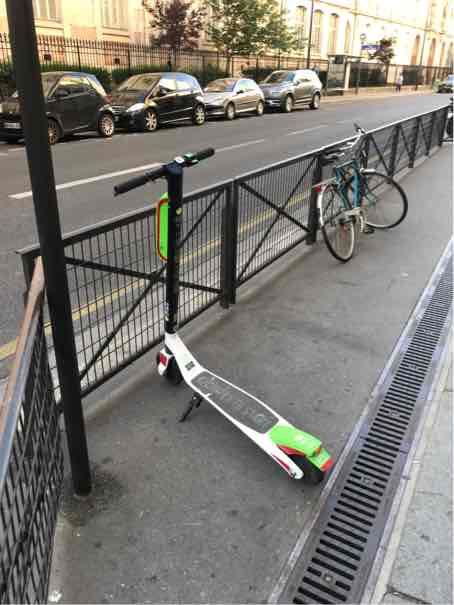scooter: (104, 139, 339, 496)
